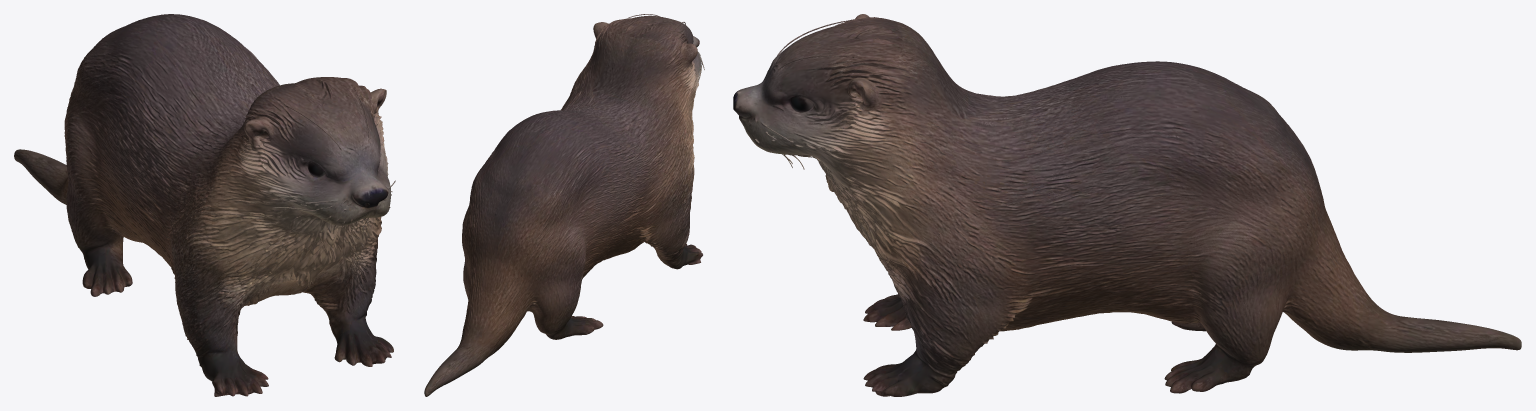
Rendered from huillin.glb.
The picture shows the model from 3 angles, left to right: view 1: azimuth 30°, elevation 25°; view 2: azimuth 150°, elevation 25°; view 3: azimuth 270°, elevation 25°; orthographic projection. The views are drawn at different scales.
Parts seen in each view (by area): view 1: material; view 2: material; view 3: material.
Boxes of the visible parts, x1,y1,x2,y2 form: material: (14,14,395,396); material: (424,14,704,396); material: (733,14,1521,396).
Size of the model in its own units: 0.335 by 0.5005 by 1.1.
Materials: 1 (1 with a texture image).
